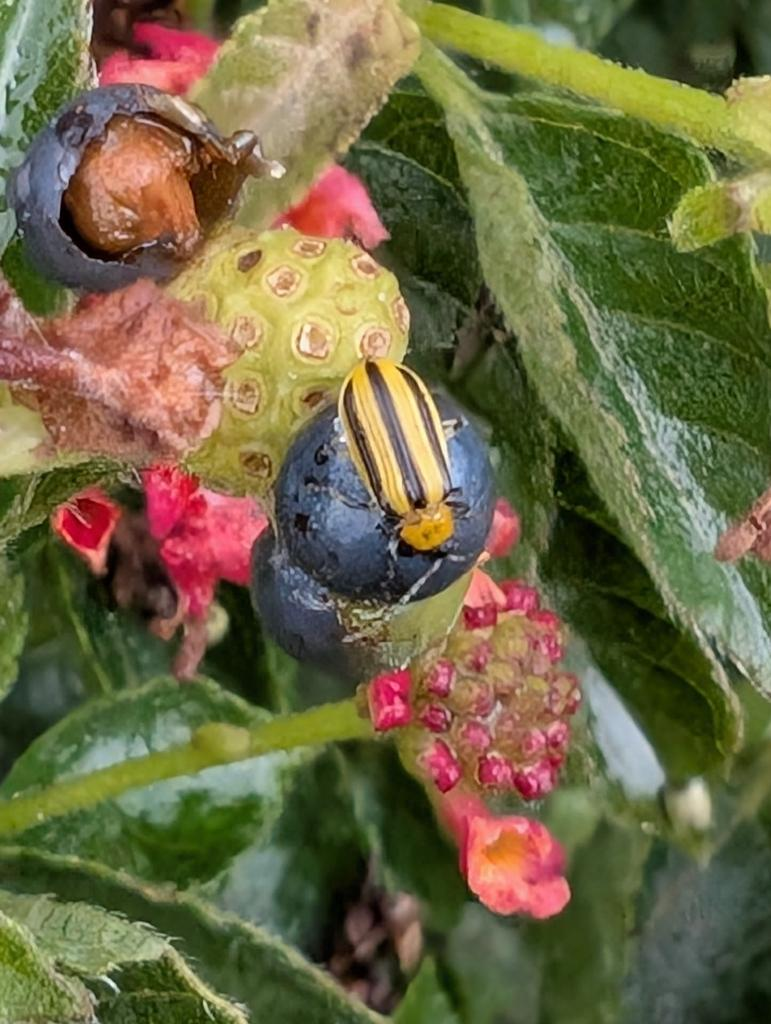potato_beetle: (266, 290, 547, 627)
